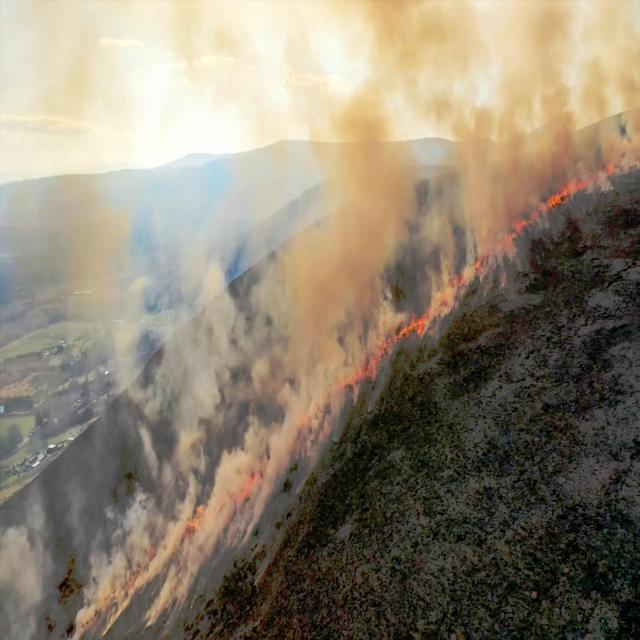Fire: (534, 158, 635, 208), (356, 307, 424, 379)
Smoke: (2, 218, 228, 640), (2, 5, 640, 154), (229, 220, 344, 514), (0, 156, 523, 214), (424, 226, 506, 329), (348, 218, 417, 313)
